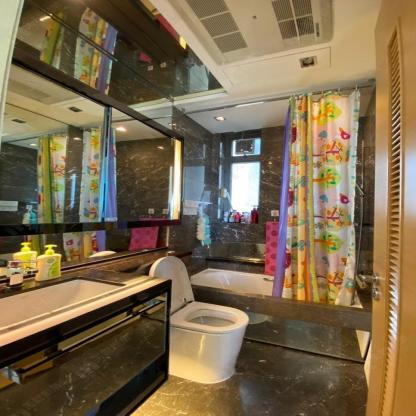Bathtub: (188, 265, 274, 315)
Toilet: (147, 255, 249, 382)
Toilet Sink: (0, 266, 173, 367)
